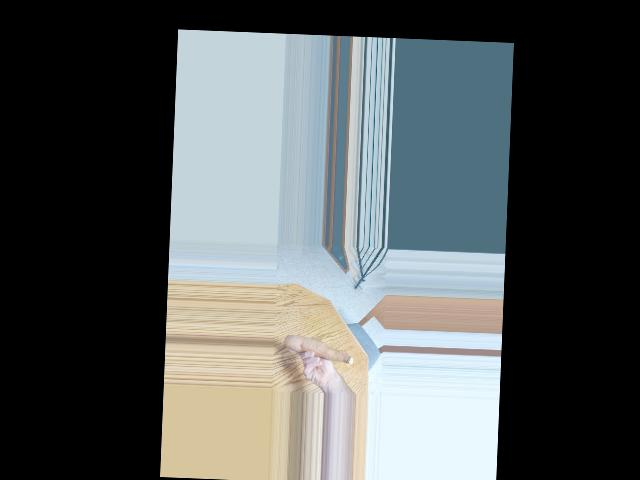sweet_potato: (282, 333, 355, 366)
